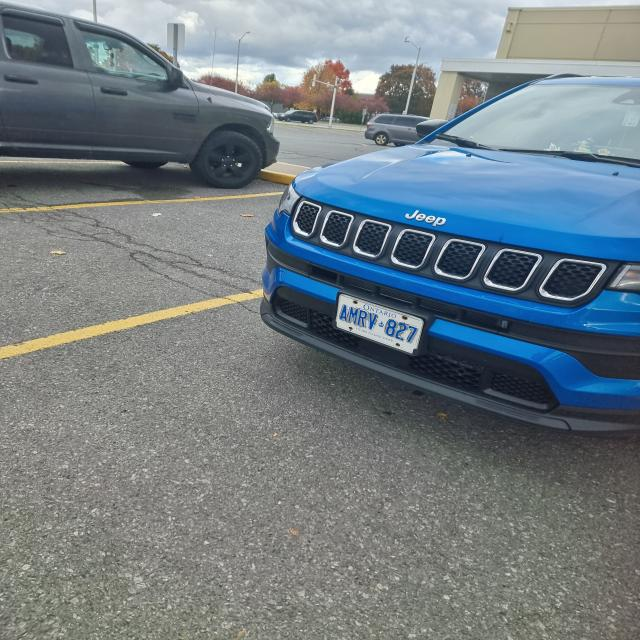plaque: (336, 294, 423, 353)
